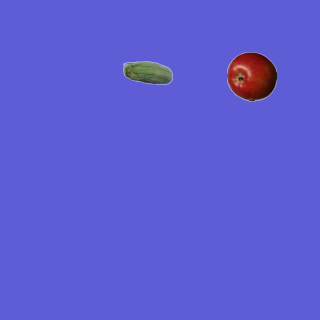Apple Braeburn: (226, 51, 276, 101)
Corn Husk: (122, 49, 172, 99)
